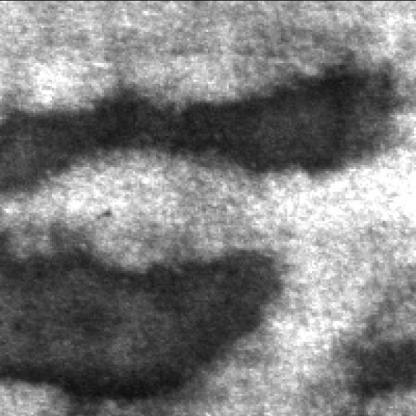patches: (2, 54, 410, 189), (2, 235, 289, 406), (357, 336, 416, 401)
